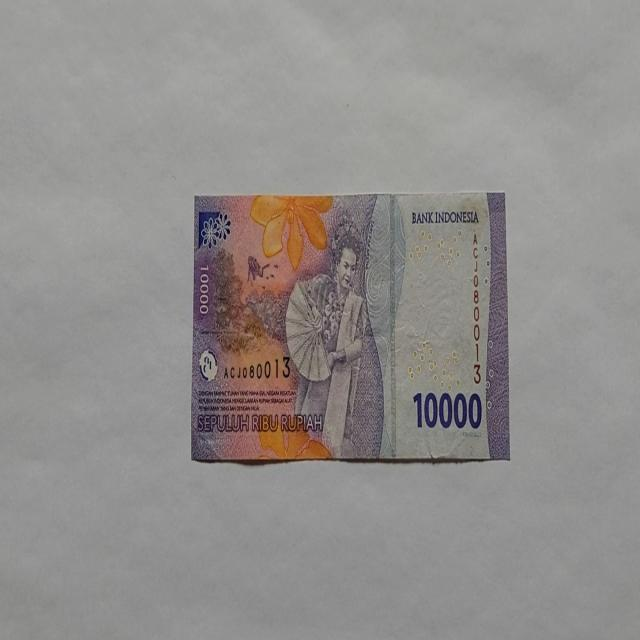sepuluh ribu rupiah: (190, 190, 510, 464)
